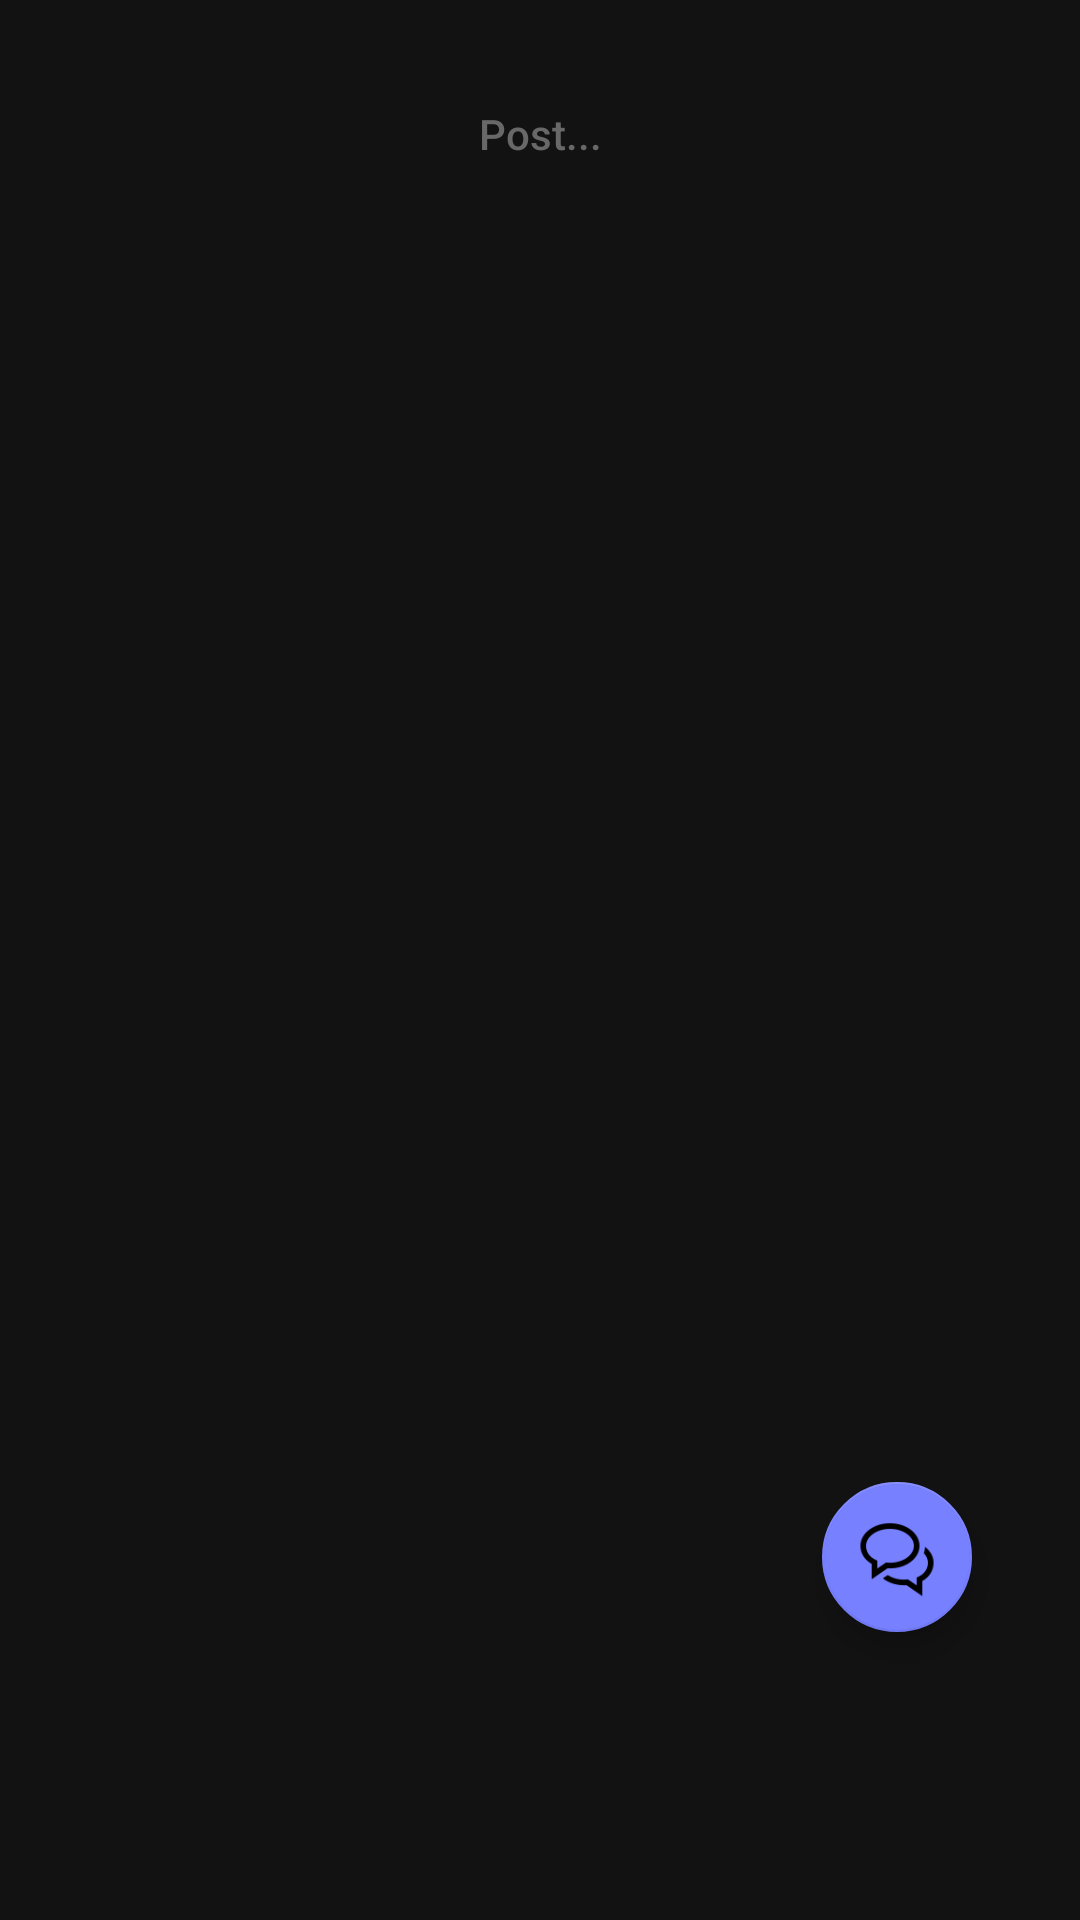

Where to tap for icons on this 1080*1920 app screen, as point (x, y):
message: point (897, 1557)
